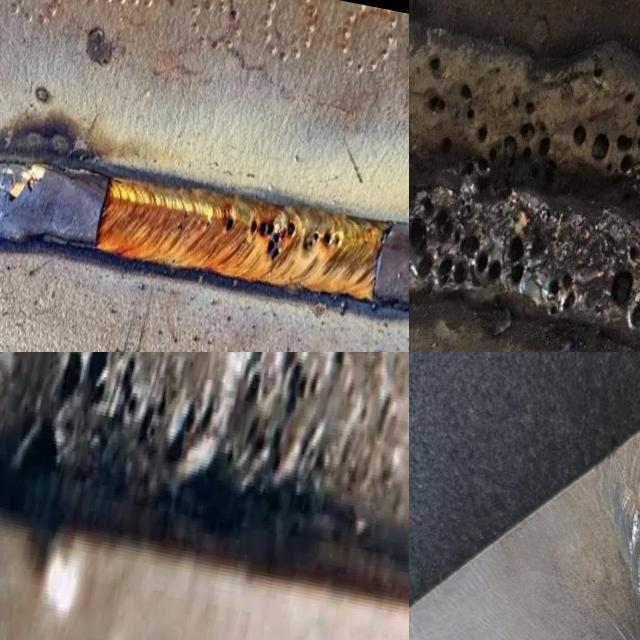defect: (217, 352, 404, 493), (51, 352, 223, 464), (424, 52, 561, 190), (409, 191, 532, 298), (568, 92, 640, 187), (599, 233, 640, 339), (246, 214, 299, 269), (533, 272, 582, 329), (583, 52, 607, 97), (303, 229, 343, 253), (176, 208, 190, 231), (222, 214, 235, 237), (630, 508, 640, 529), (204, 215, 214, 229)
